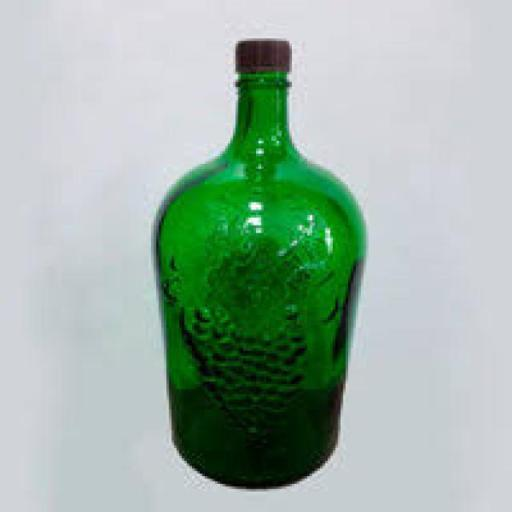glass: (130, 40, 383, 494)
